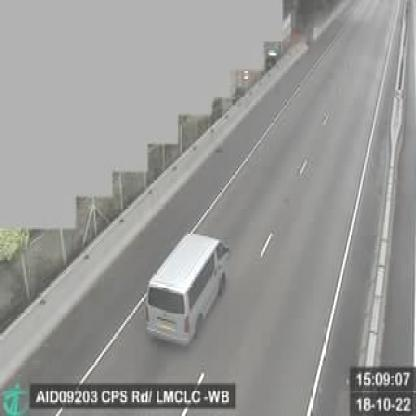Car: (145, 235, 225, 345)
